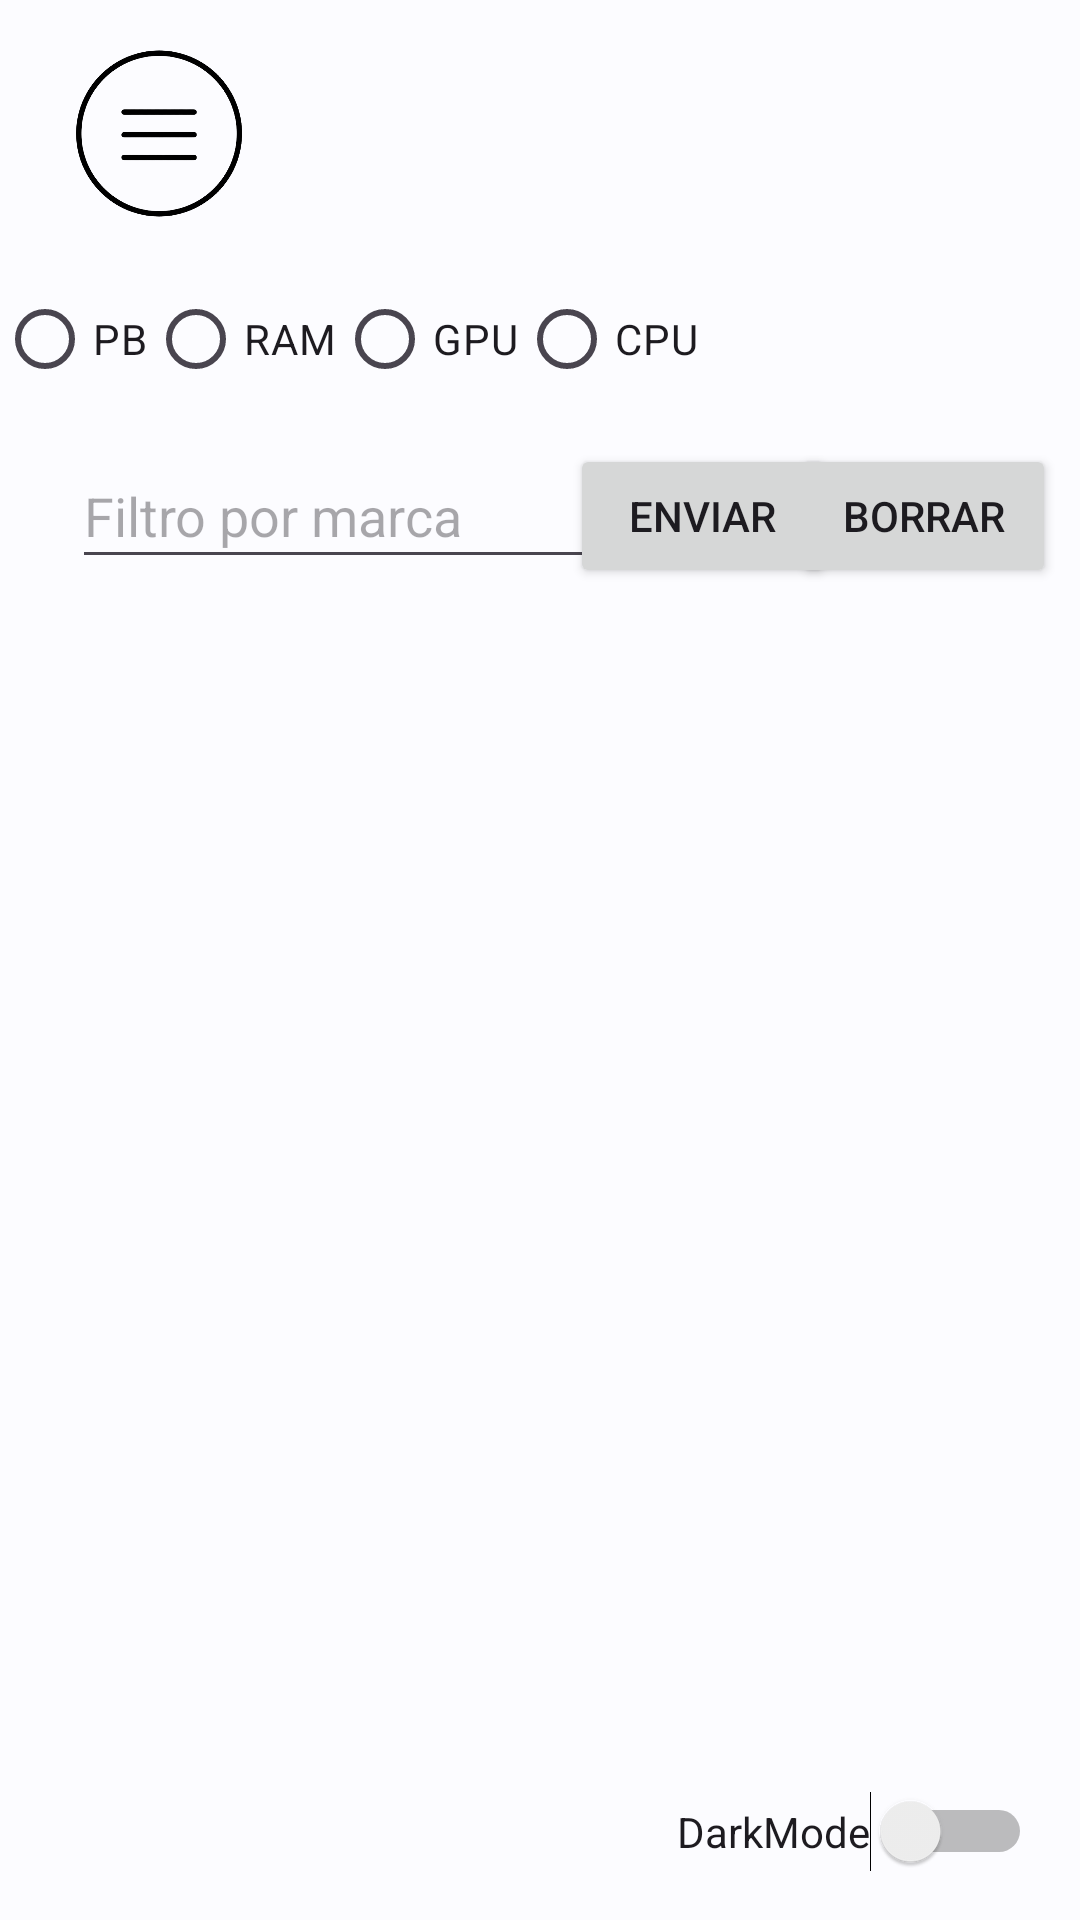

Icons on this 1080×1920 Android screen, each with the point to tap as (x,y):
hamburguesa: (159,133)
